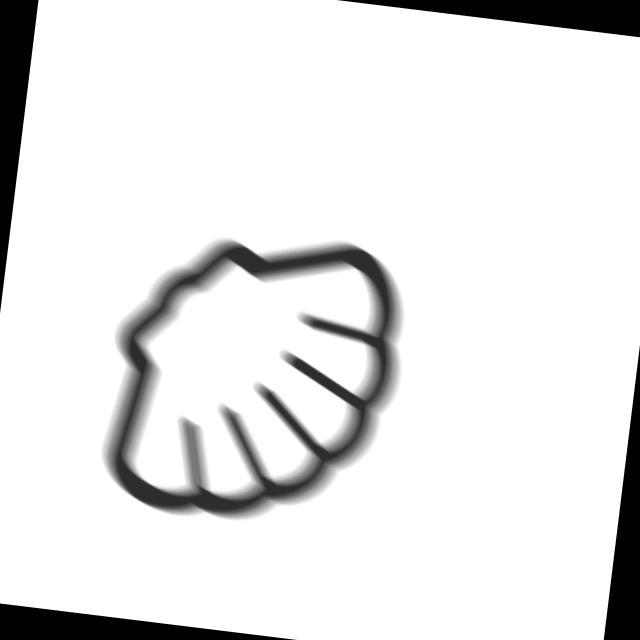shell: (87, 209, 424, 548)
